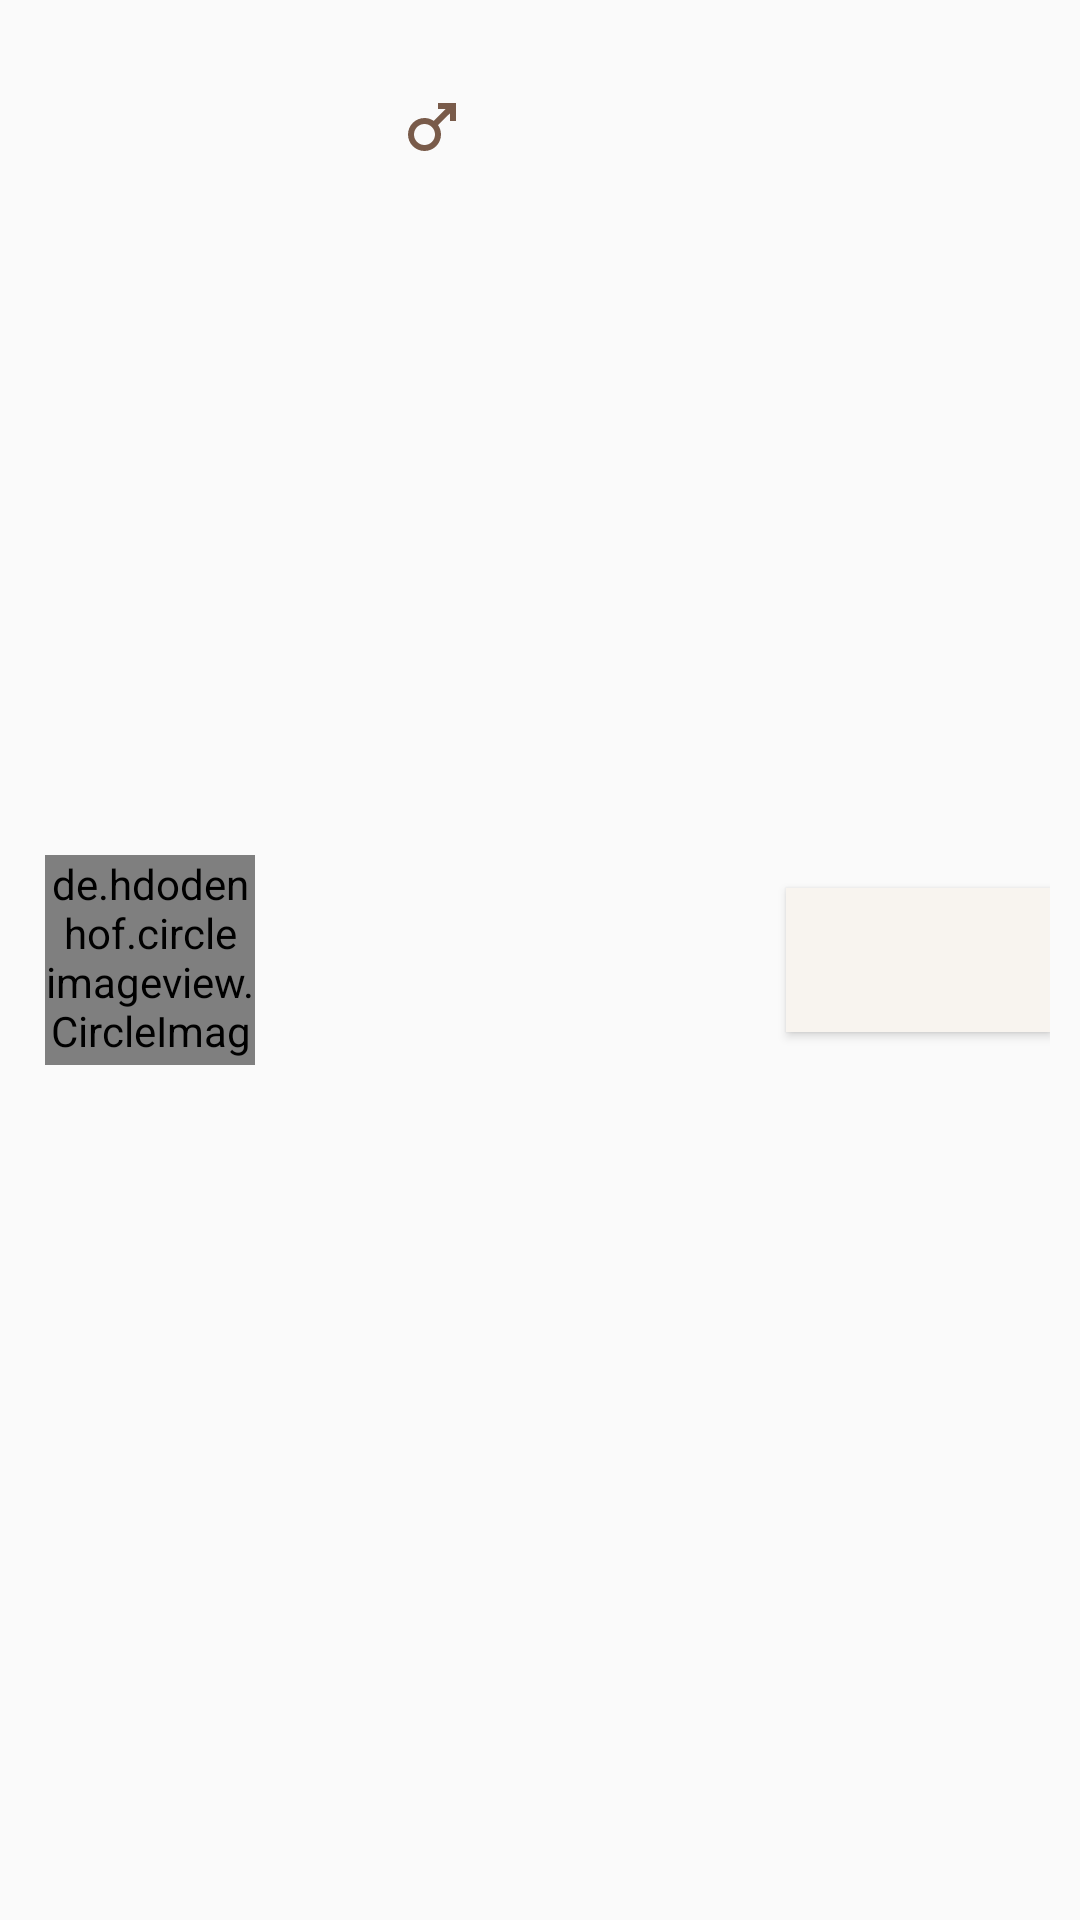

Icons on this 1080*1920 Android screen, each with the point to tap as (x=x, y=y):
male: (x=432, y=127)
